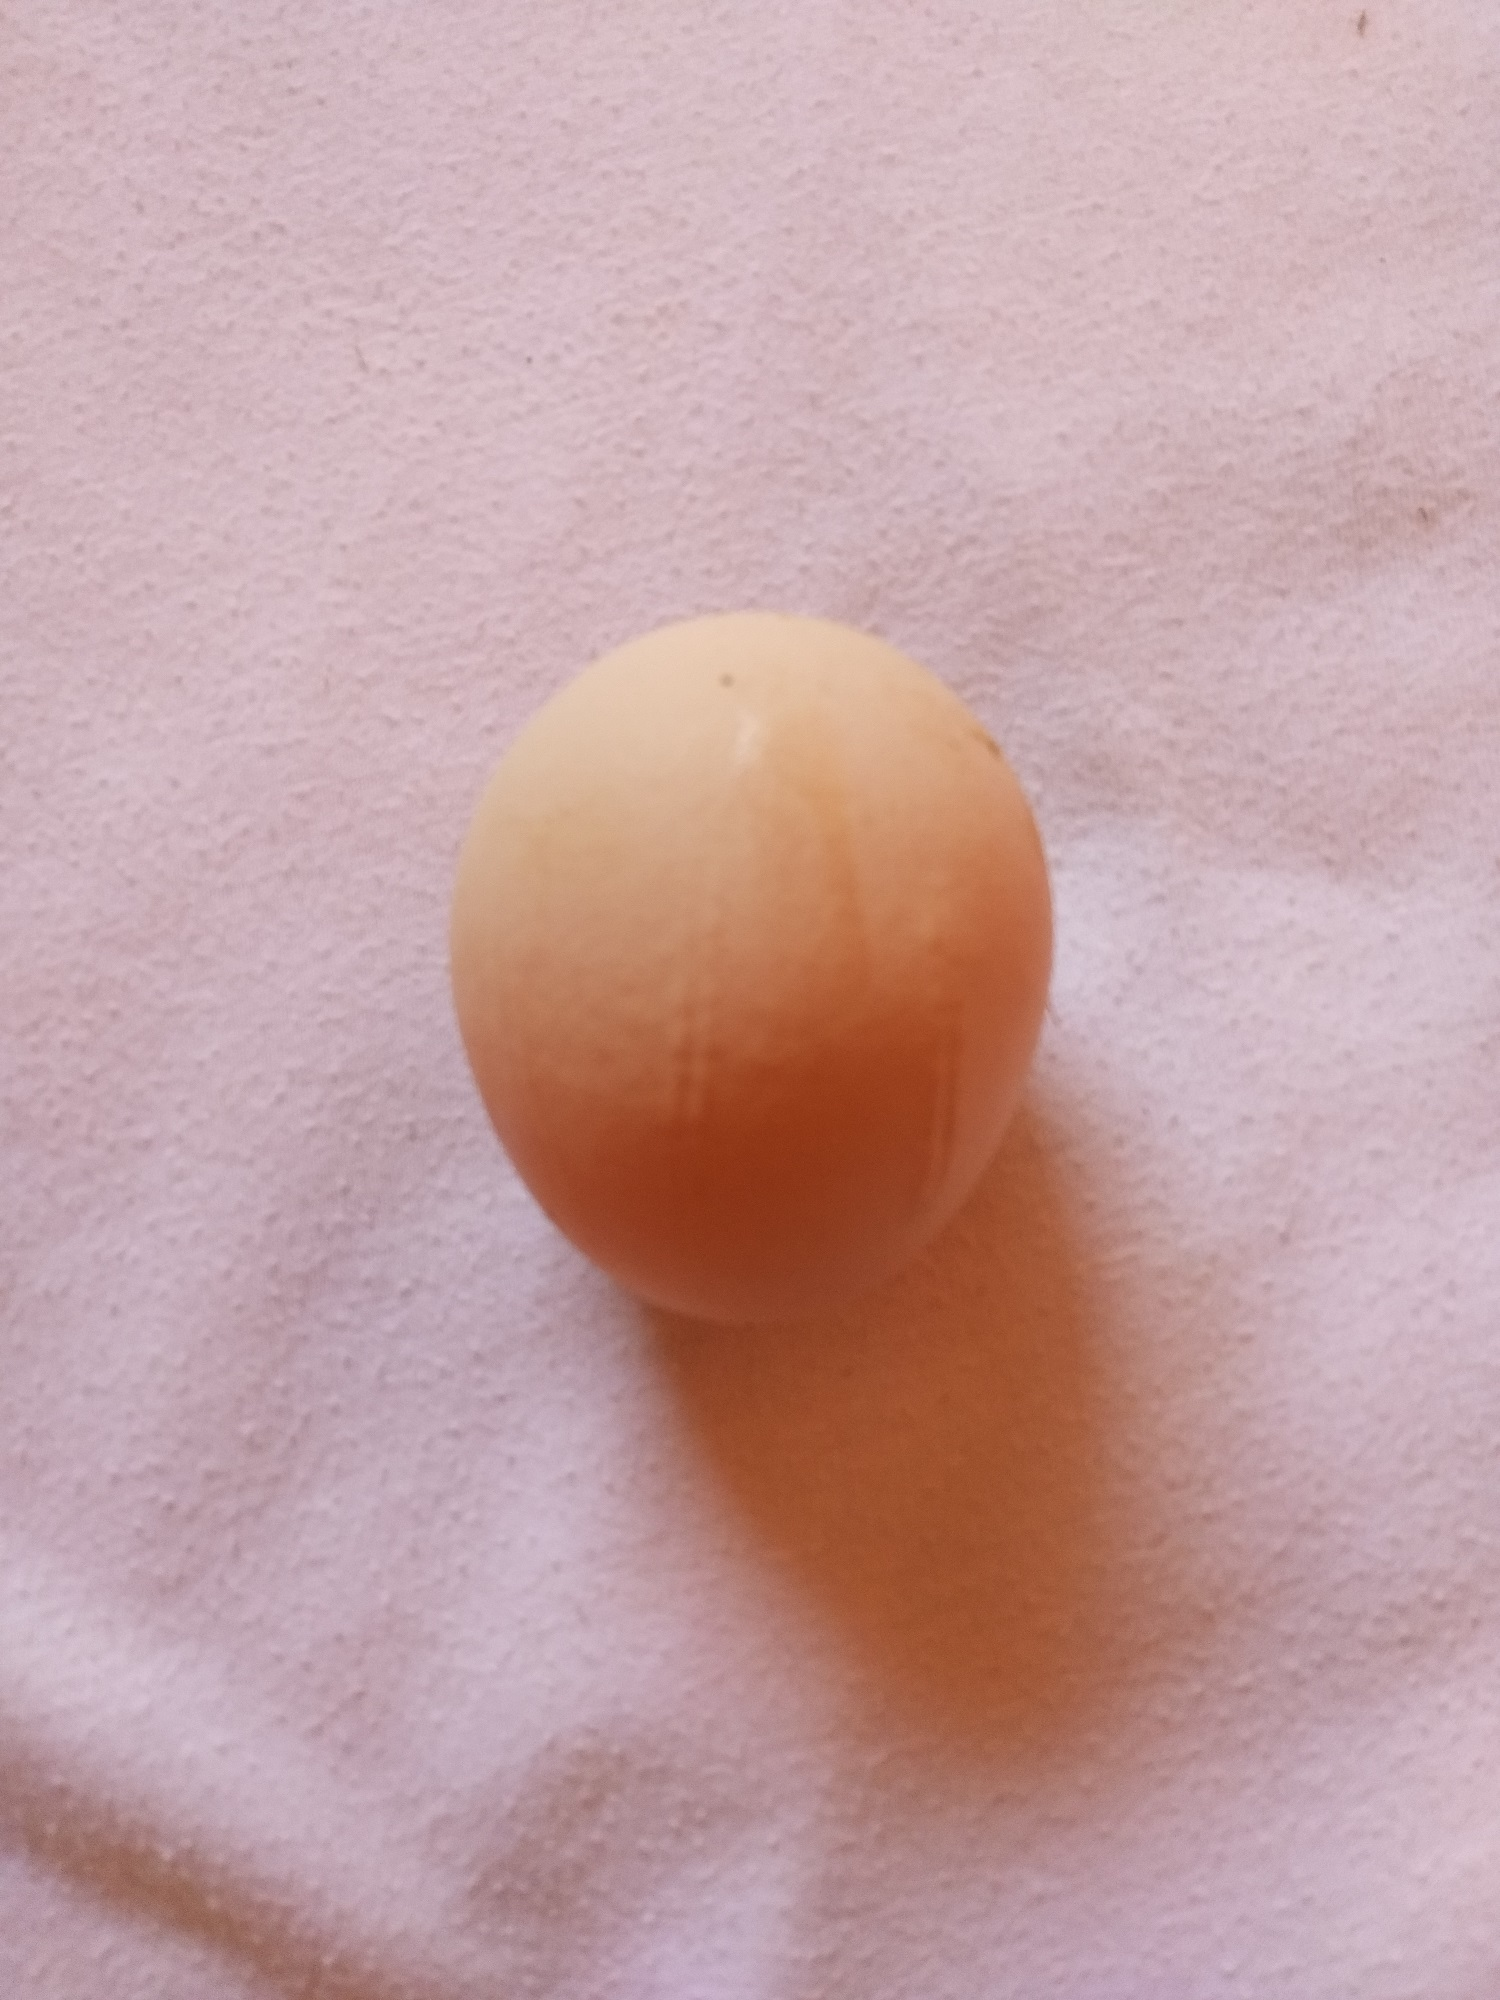Female: (443, 603, 1060, 1335)
